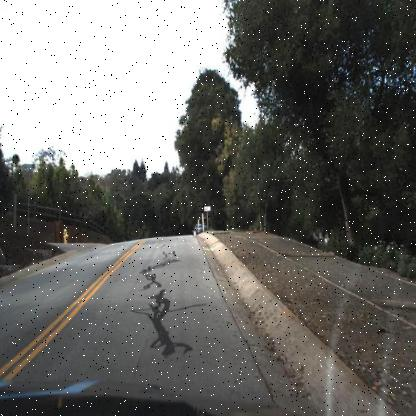car: (196, 212, 214, 235)
